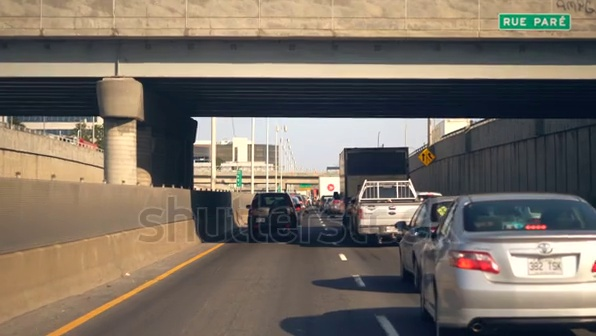licenseplate: (525, 259, 569, 276)
